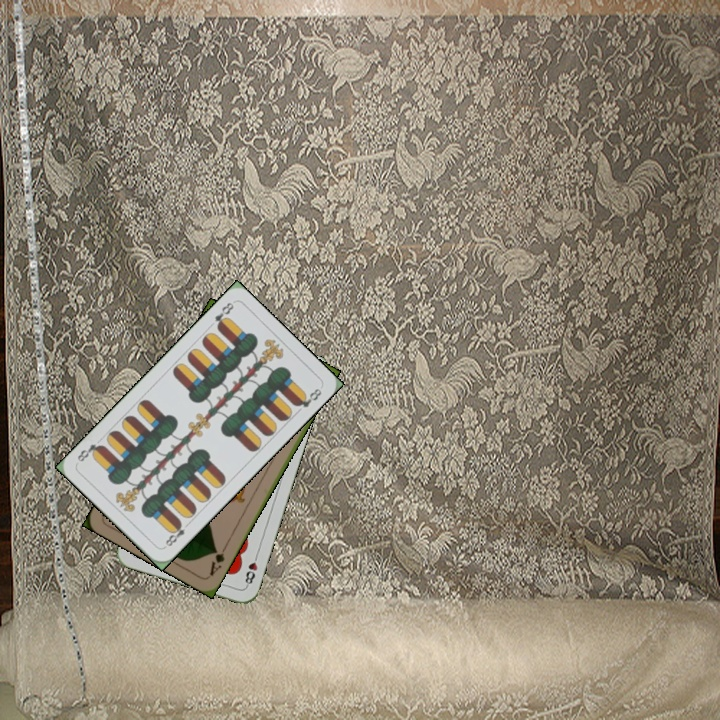E8: (160, 518, 192, 550), (210, 298, 236, 332)
GA: (205, 540, 230, 578)
H8: (241, 549, 261, 589)
